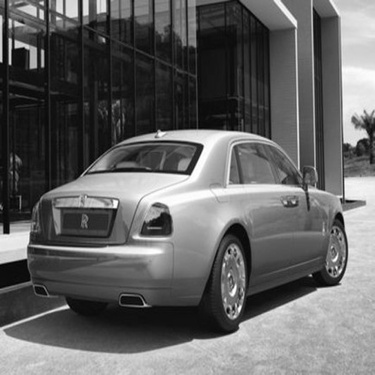car: (20, 124, 363, 305)
